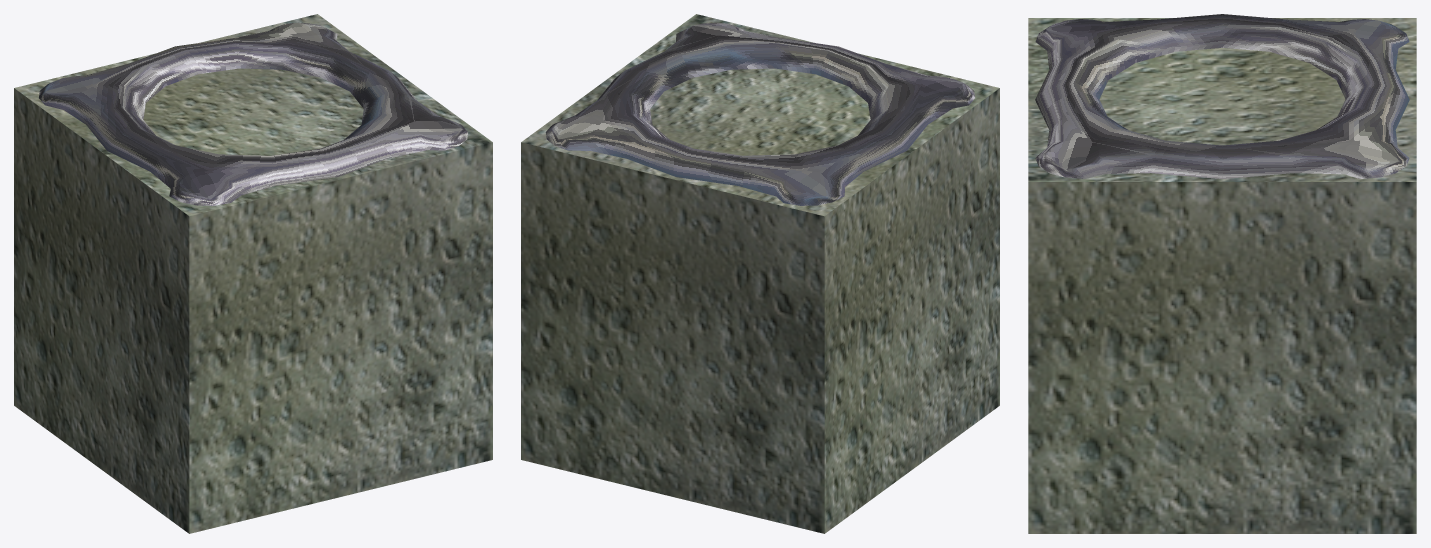
Rendered from stone_transform.glb.
3 views of the same model, side by side, from view 1: azimuth 30°, elevation 25°; view 2: azimuth 150°, elevation 25°; view 3: azimuth 270°, elevation 25° (orthographic). The views are drawn at different scales.
Visible parts, largest first — view 1: Fake_trafo_stone; view 2: Fake_trafo_stone; view 3: Fake_trafo_stone.
Part boxes in pixels (x1=…): Fake_trafo_stone: x1=14, y1=14, x2=492, y2=533; Fake_trafo_stone: x1=521, y1=14, x2=999, y2=533; Fake_trafo_stone: x1=1028, y1=14, x2=1416, y2=533.
Size of the model in its own units: 5 by 5.24 by 5.
3 materials, 3 textured.
